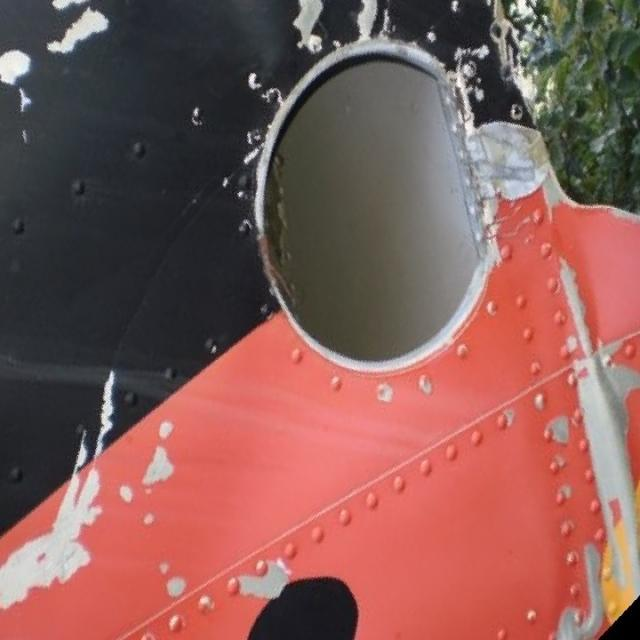crack: (1, 358, 122, 596), (288, 1, 326, 66)
